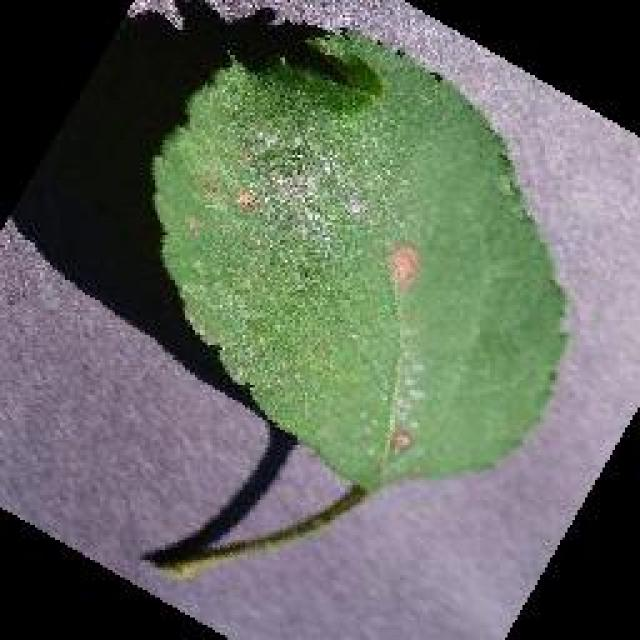Black_rot: (0, 0, 638, 638), (148, 20, 572, 498)
